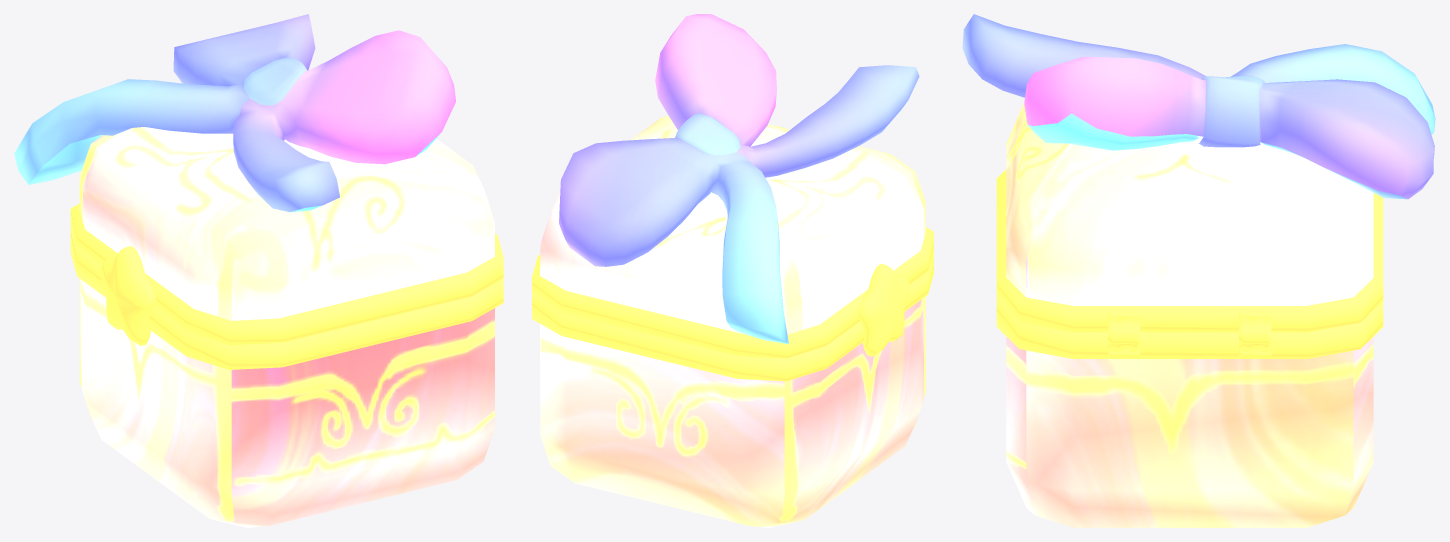
The model's file is PresentBox.fbx.
3 renders of one model, left to right at view 1: azimuth 30°, elevation 25°; view 2: azimuth 150°, elevation 25°; view 3: azimuth 270°, elevation 25°, orthographic. The views are drawn at different scales.
Parts seen in each view (by area): view 1: Cube, Bun, Star; view 2: Cube, Bun, Star; view 3: Cube, Bun, Opens.
Boxes of the visible parts, <box> form: Cube: <box>70,127,503,527</box>; Bun: <box>14,14,455,212</box>; Star: <box>100,246,156,345</box>; Cube: <box>532,116,933,527</box>; Bun: <box>559,14,919,344</box>; Star: <box>858,264,909,356</box>; Cube: <box>996,103,1383,527</box>; Bun: <box>962,14,1435,199</box>; Opens: <box>1108,313,1271,357</box>.
Bounding box in the file's own units: 108 × 134 × 122.
2 materials, 1 textured.
